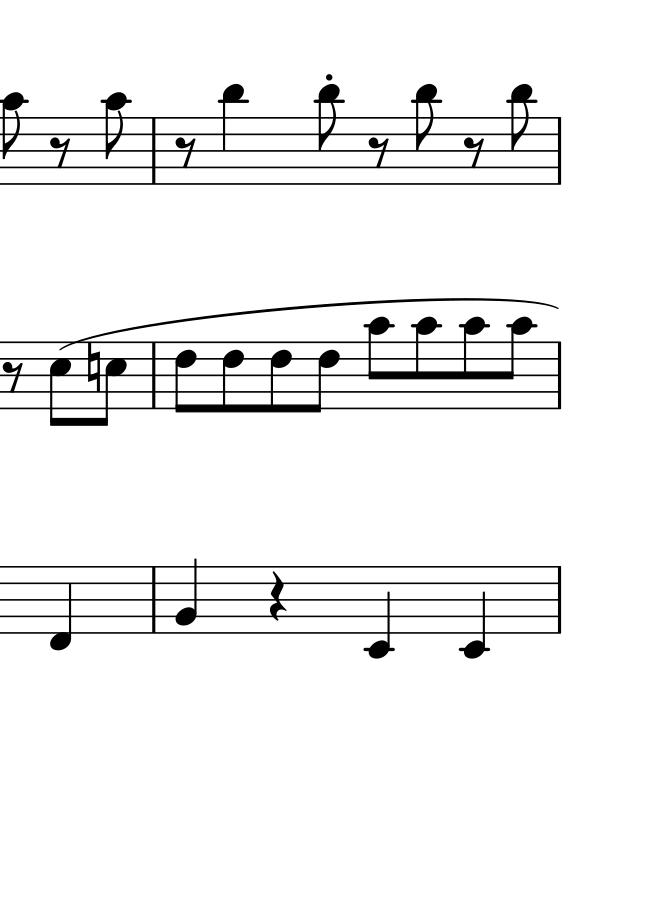4_-1: (47, 564, 73, 654)
4_-2: (363, 564, 396, 661), (461, 562, 491, 659)
4_11: (219, 83, 250, 186)
4_2: (175, 558, 200, 638)
8_10: (500, 316, 539, 411), (460, 315, 490, 413), (102, 91, 132, 188), (365, 316, 395, 413), (410, 315, 440, 411), (1, 89, 26, 189)
8_11: (506, 84, 538, 188), (313, 81, 344, 187), (411, 84, 441, 187)
8_5: (96, 341, 128, 427), (47, 340, 75, 431)
8_6: (309, 339, 341, 416), (267, 340, 293, 415), (221, 339, 246, 415), (173, 341, 198, 416)
Natural: (86, 340, 102, 393)
Rests4: (268, 570, 288, 623)
Rests8: (2, 361, 26, 400), (174, 133, 200, 168), (461, 133, 487, 165), (365, 137, 389, 168), (48, 136, 71, 168)
Single_barline: (550, 566, 567, 633), (550, 117, 566, 184), (145, 117, 161, 183), (146, 566, 162, 632), (551, 341, 566, 411), (146, 342, 161, 408)
Slur: (60, 297, 564, 351)
